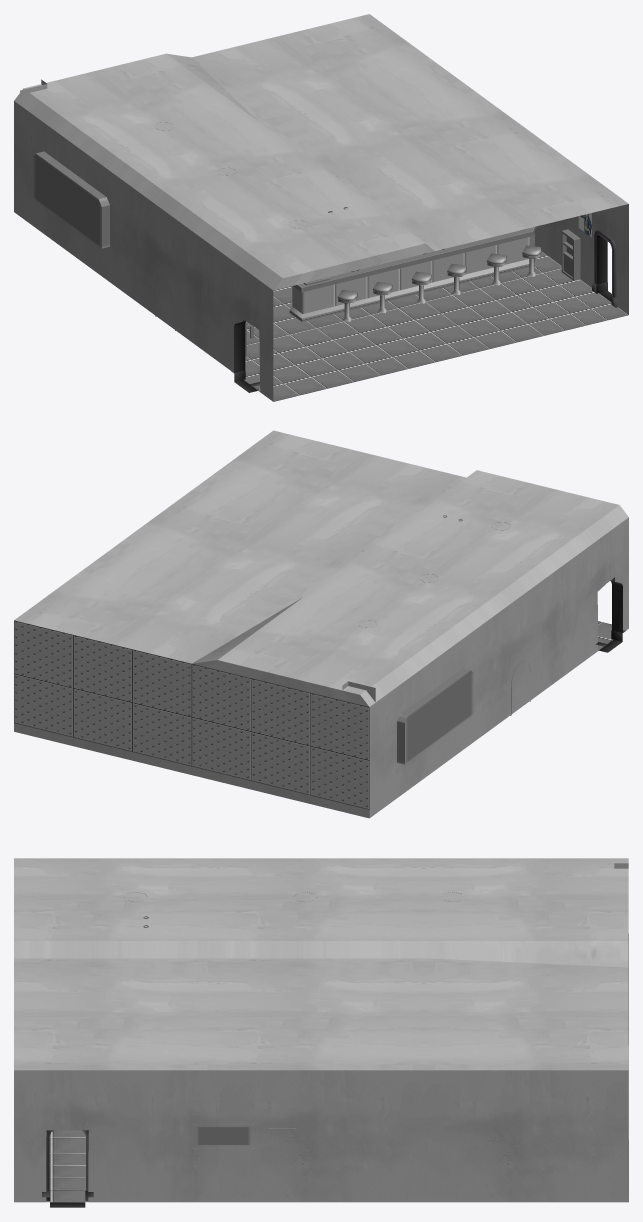
Rendered from MSH_Bar_room_L3_R2.fbx.
3 renders of one model, top to bottom at view 1: azimuth 30°, elevation 25°; view 2: azimuth 150°, elevation 25°; view 3: azimuth 270°, elevation 25°, orthographic. The views are drawn at different scales.
Visible parts, largest first — view 1: MSH_Bar_room_L3_R2_Walls, MSH_Bar_room_L3_R2 1, MSH_Bar_room_L3_R2_lights; view 2: MSH_Bar_room_L3_R2_Walls, MSH_Bar_room_L3_R2_lights; view 3: MSH_Bar_room_L3_R2_Walls, MSH_Bar_room_L3_R2 1.
Boxes of the visible parts, x1,y1,x2,y2 form: MSH_Bar_room_L3_R2_Walls: [14, 14, 628, 401]; MSH_Bar_room_L3_R2 1: [20, 79, 591, 356]; MSH_Bar_room_L3_R2_lights: [234, 235, 611, 392]; MSH_Bar_room_L3_R2_Walls: [14, 430, 628, 818]; MSH_Bar_room_L3_R2_lights: [599, 581, 622, 652]; MSH_Bar_room_L3_R2_Walls: [14, 858, 628, 1202]; MSH_Bar_room_L3_R2 1: [124, 863, 628, 1148].
Size of the model in its own units: 20.61 by 6.7 by 24.78.
